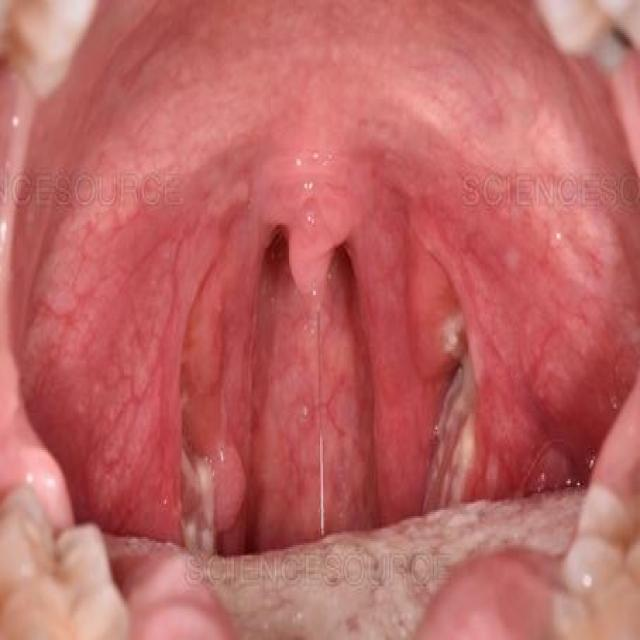pharyngitis: (419, 322, 512, 513), (167, 417, 265, 564)
